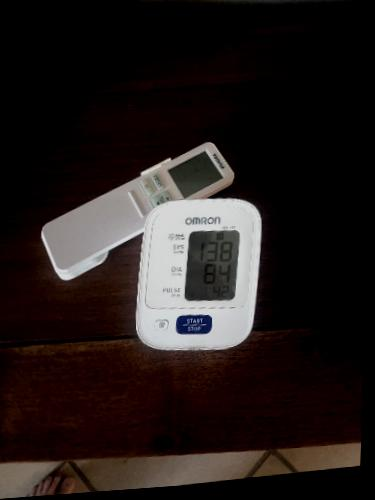bpm: (182, 225, 241, 305)
